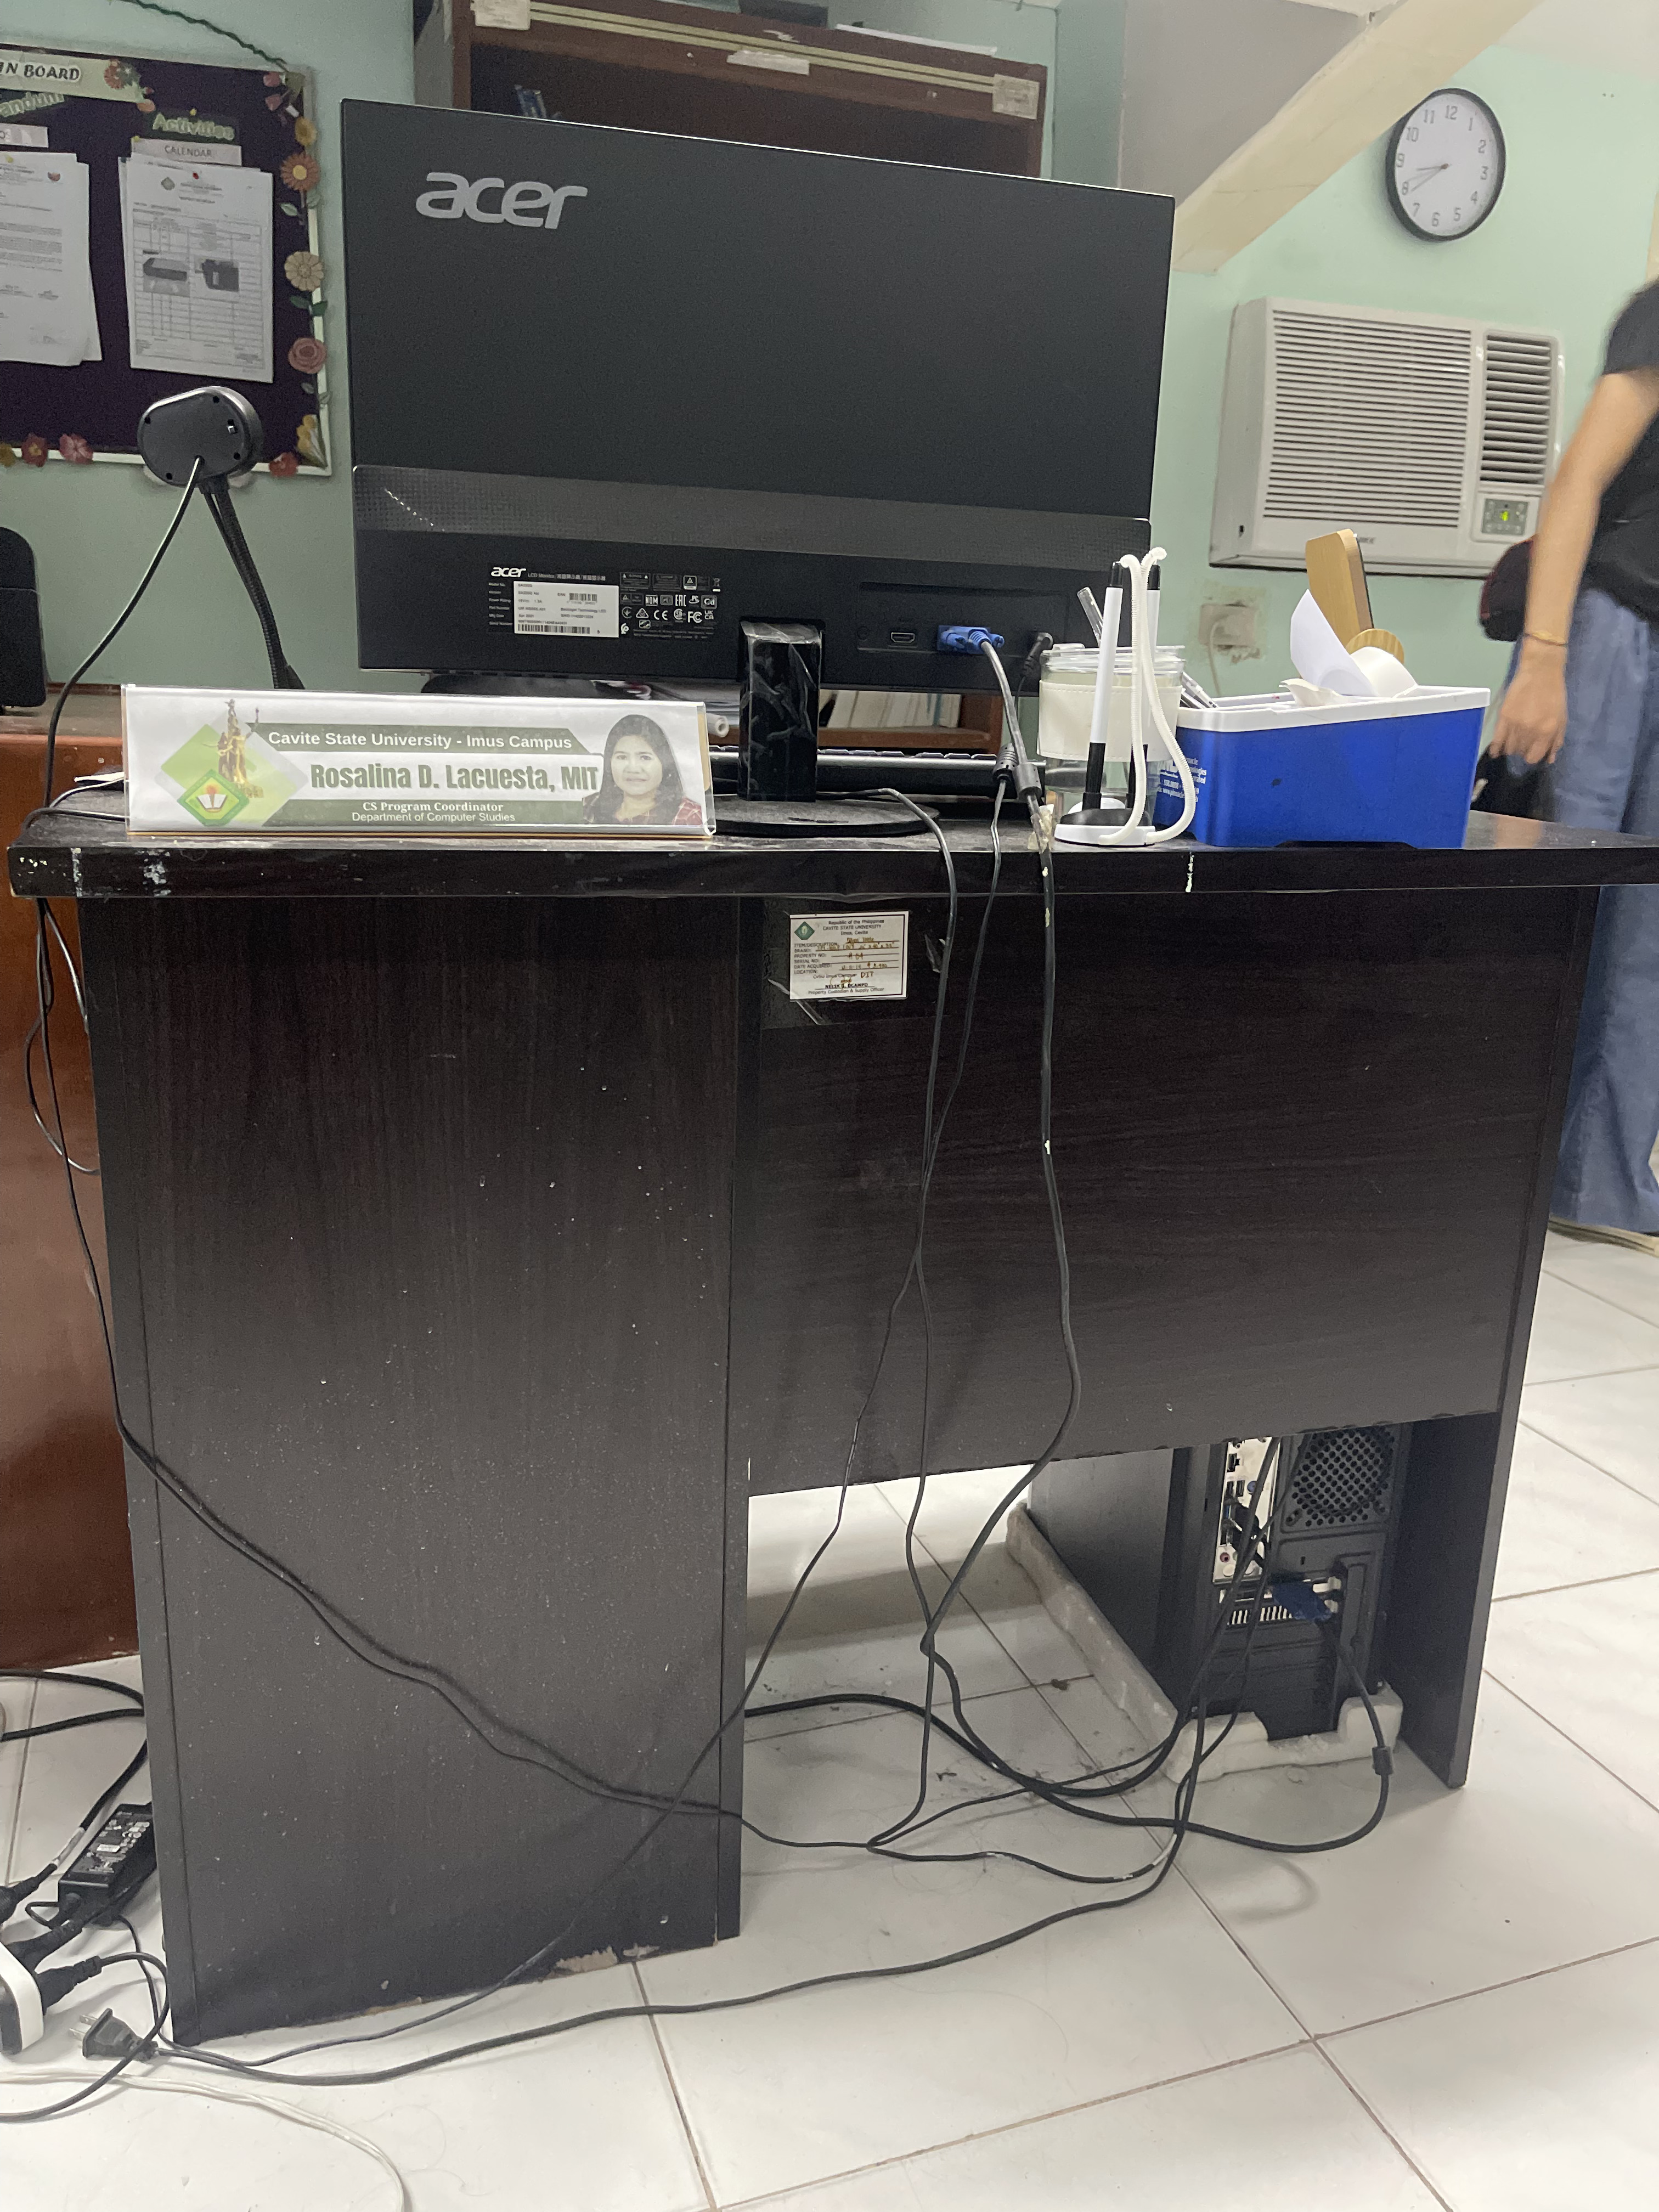table1: (10, 765, 1659, 2057)
